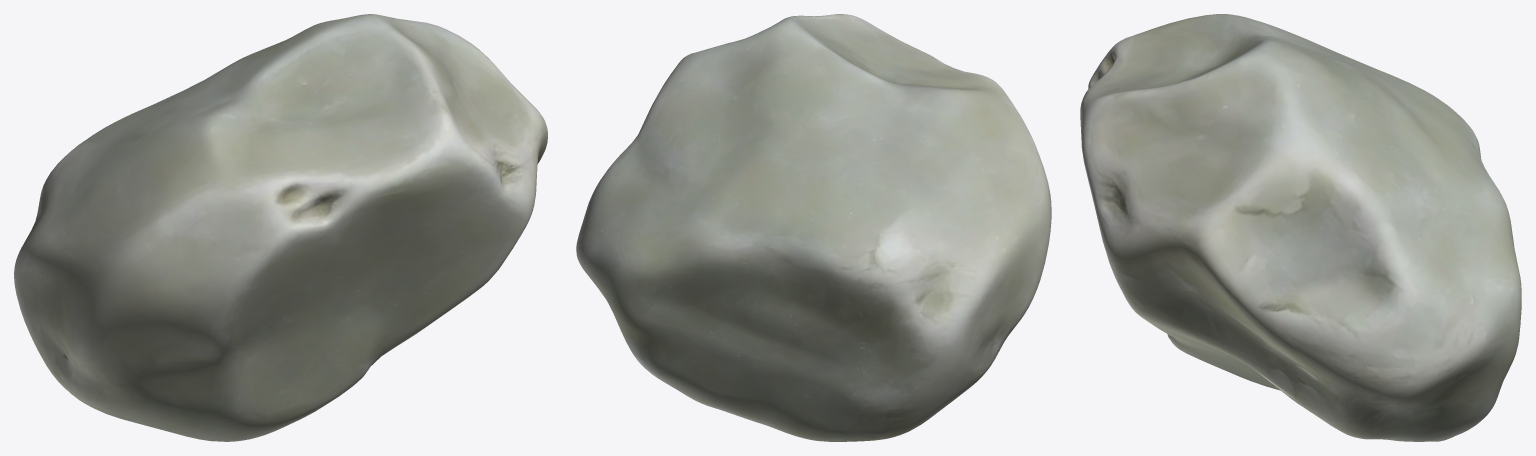
Rendered from talc.glb.
The picture shows the model from 3 angles, left to right: view 1: azimuth 30°, elevation 25°; view 2: azimuth 150°, elevation 25°; view 3: azimuth 270°, elevation 25°; orthographic projection. The views are drawn at different scales.
Parts seen in each view (by area): view 1: node_0; view 2: node_0; view 3: node_0.
Boxes of the visible parts, x1=… form: node_0: x1=14, y1=14, x2=547, y2=441; node_0: x1=576, y1=14, x2=1051, y2=441; node_0: x1=1080, y1=14, x2=1521, y2=441.
Size of the model in its own units: 1.11 by 0.9253 by 0.9111.
1 material, 1 textured.
